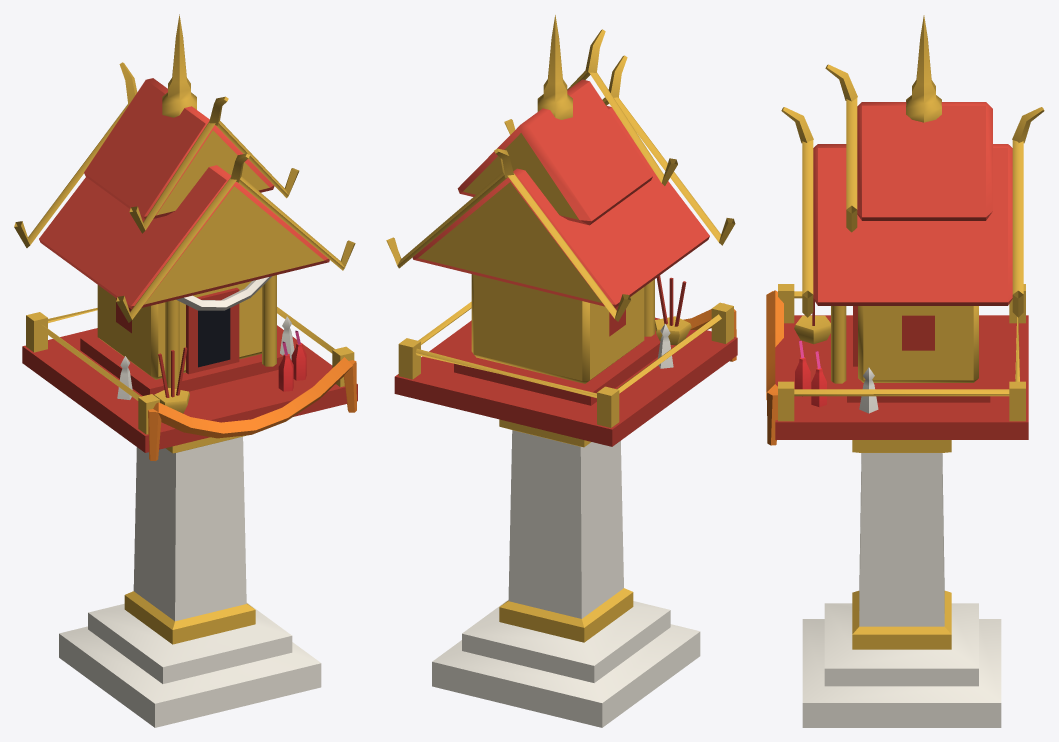
Rendered from prop_spirit_house.glb.
The picture shows the model from 3 angles, left to right: view 1: azimuth 30°, elevation 25°; view 2: azimuth 150°, elevation 25°; view 3: azimuth 270°, elevation 25°; orthographic projection. The views are drawn at different scales.
Parts seen in each view (by area): view 1: body; view 2: body; view 3: body.
Boxes of the visible parts, left/top/right/bottom form: body: left=14, top=14, right=357, bottom=727; body: left=386, top=15, right=737, bottom=727; body: left=766, top=15, right=1044, bottom=727.
Bounding box in the file's own units: 1.04 × 2.69 × 1.01.
